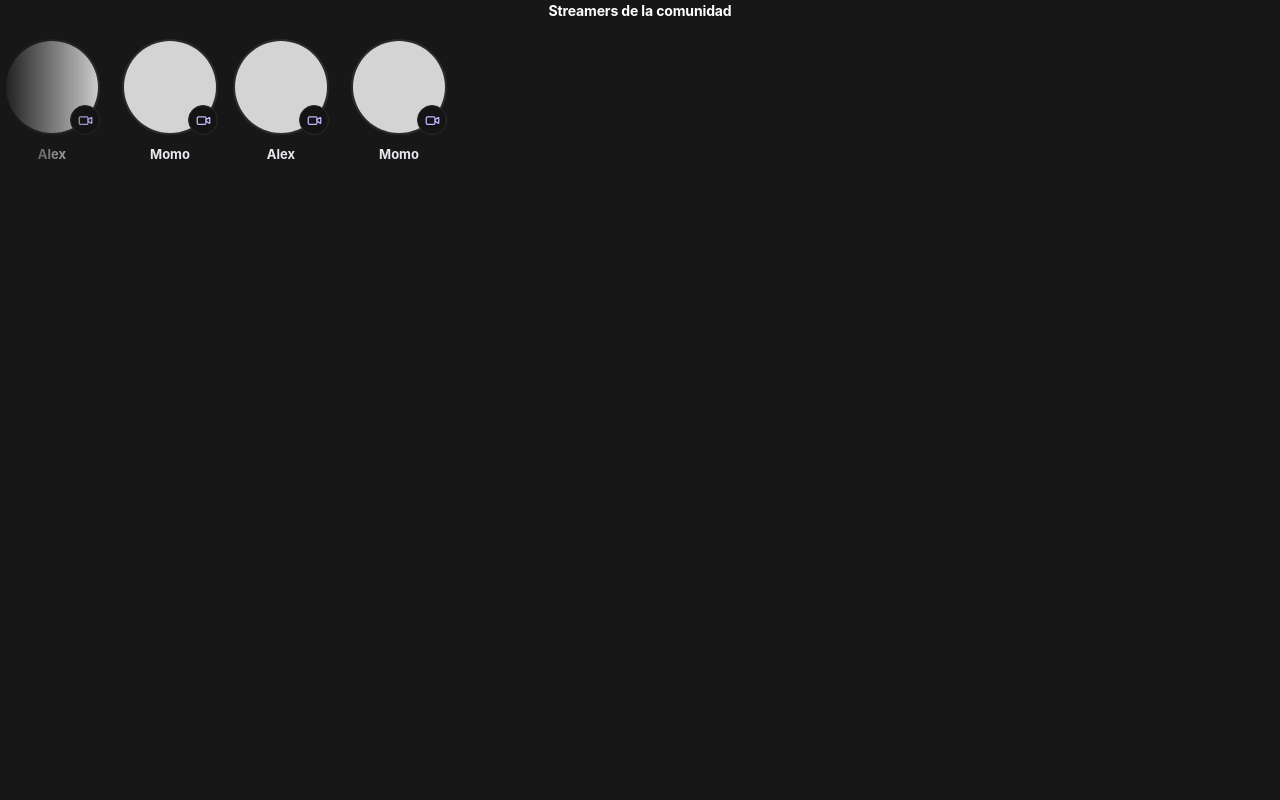
Test: HomeStreamers › abre el popup in-app al clicar y cierra con Escape
This screenshot has width=1280, height=800.
expect the heading "Streamers de la comunidad" is shown: met, box [548,2,732,19]
Click the 1st button "Alex".
click(52, 102)  # box [4,39,100,164]
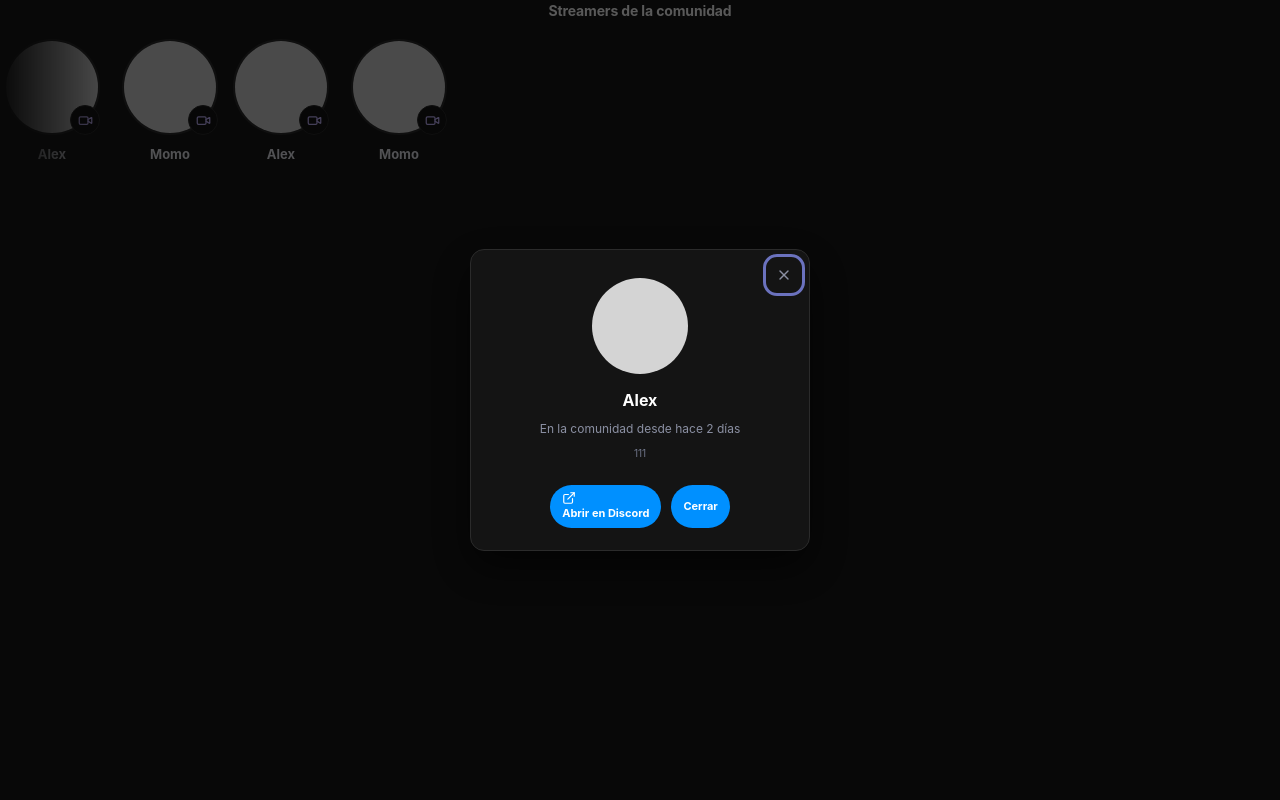
expect the dialog named "perfil de alex" is shown: met, box [470,249,810,551]
expect the dialog named "perfil de alex" shows "2 días": met, box [706,421,740,436]
Press Escape
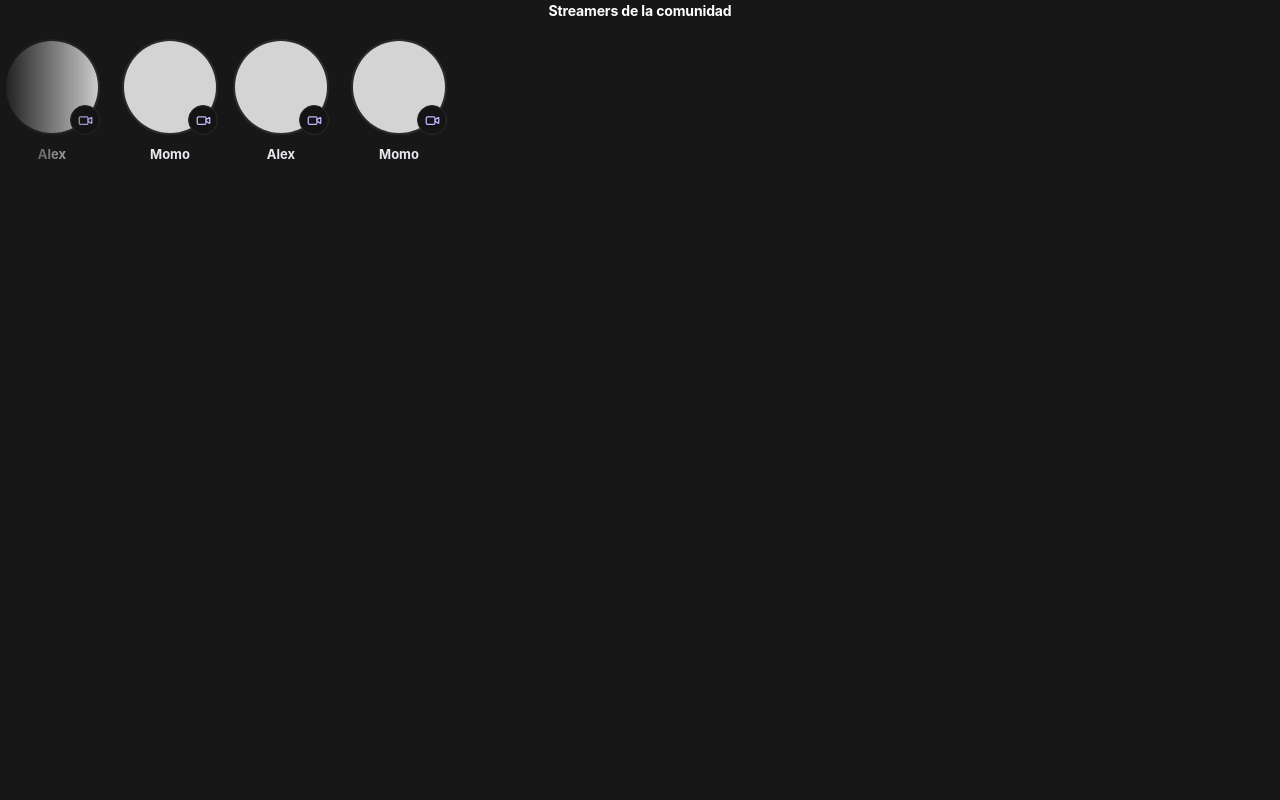
expect the dialog is gone: met
